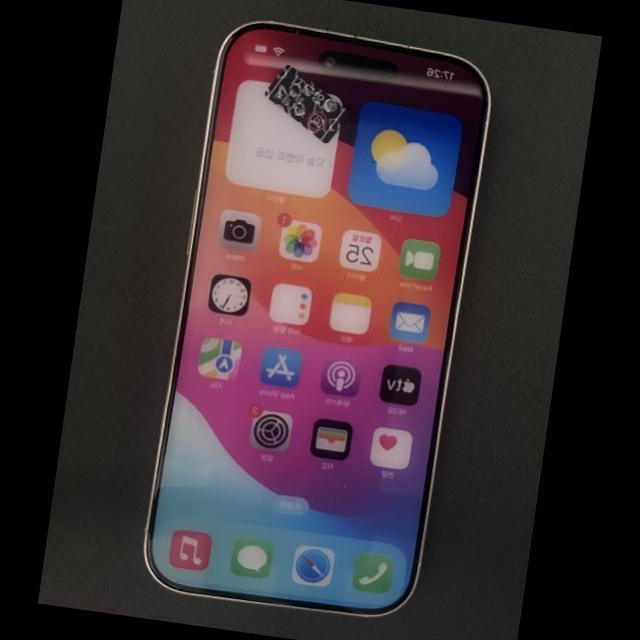phone: (144, 23, 488, 614)
sticker: (264, 65, 350, 143)
